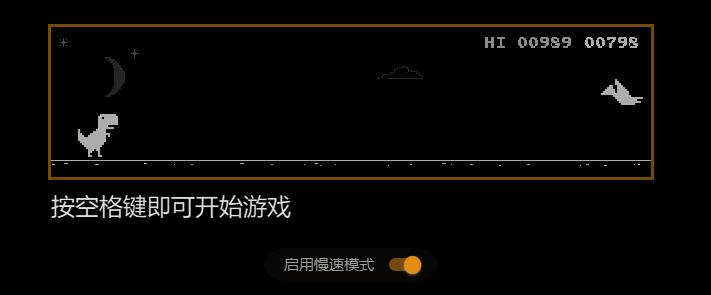bird: (600, 78, 645, 106)
dino: (75, 113, 119, 158)
